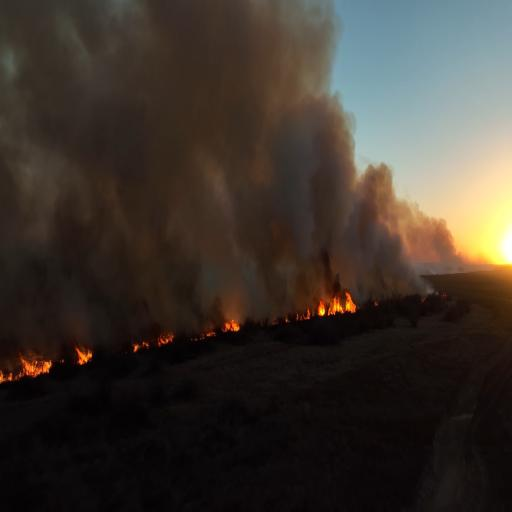fire: (0, 343, 57, 398), (316, 286, 351, 324)
smoke: (33, 0, 305, 206), (246, 72, 362, 238), (65, 162, 186, 302)
